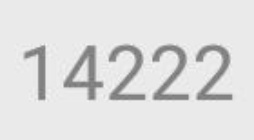TextView: (1, 1, 253, 139)
